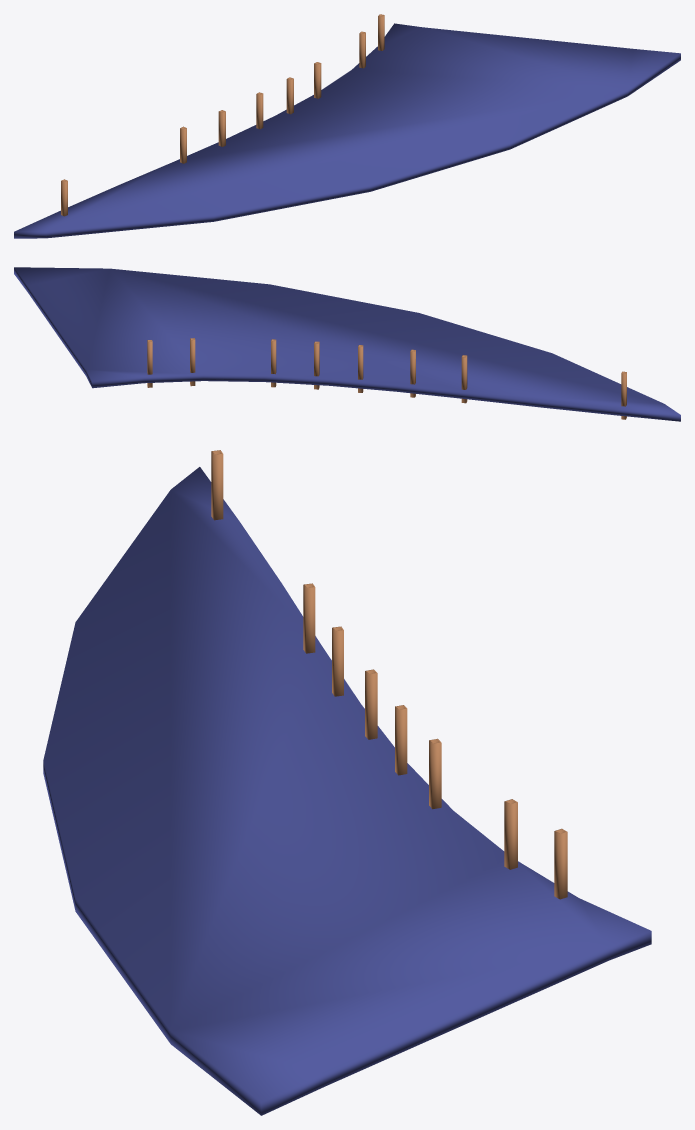
File: 002_駐車場地面.glb
3 renders of one model, top to bottom at view 1: azimuth 30°, elevation 25°; view 2: azimuth 150°, elevation 25°; view 3: azimuth 270°, elevation 25°, orthographic. The views are drawn at different scales.
Parts seen in each view (by area): view 1: 円003, 円003_1; view 2: 円003, 円003_1; view 3: 円003, 円003_1.
Boxes of the visible parts, left/top/right/bottom form: 円003: left=14, top=23, right=680, bottom=238; 円003_1: left=61, top=14, right=384, bottom=216; 円003: left=14, top=267, right=680, bottom=421; 円003_1: left=147, top=338, right=626, bottom=419; 円003: left=43, top=467, right=651, bottom=1115; 円003_1: left=211, top=450, right=567, bottom=899.
Bounding box in the file's own units: 43.32 × 2.91 × 17.51.
